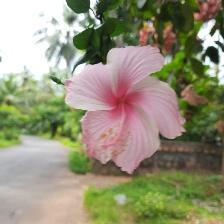hibiscus: (64, 46, 190, 176)
